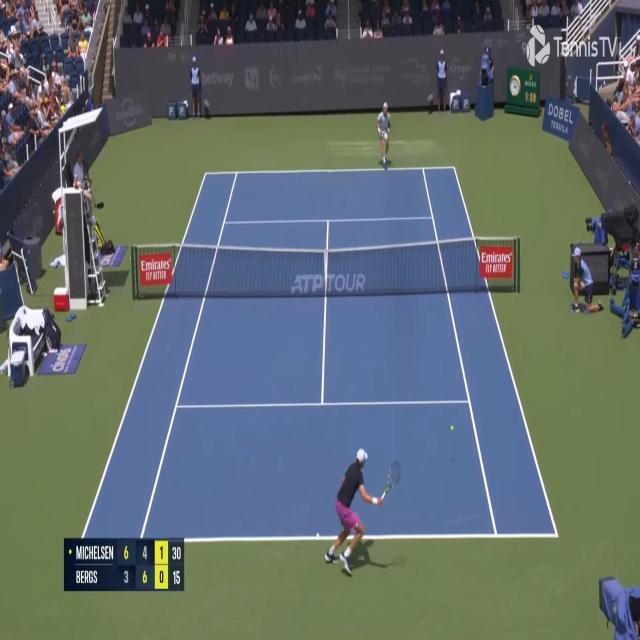tennis-player: (324, 444, 402, 579), (376, 99, 391, 172)
